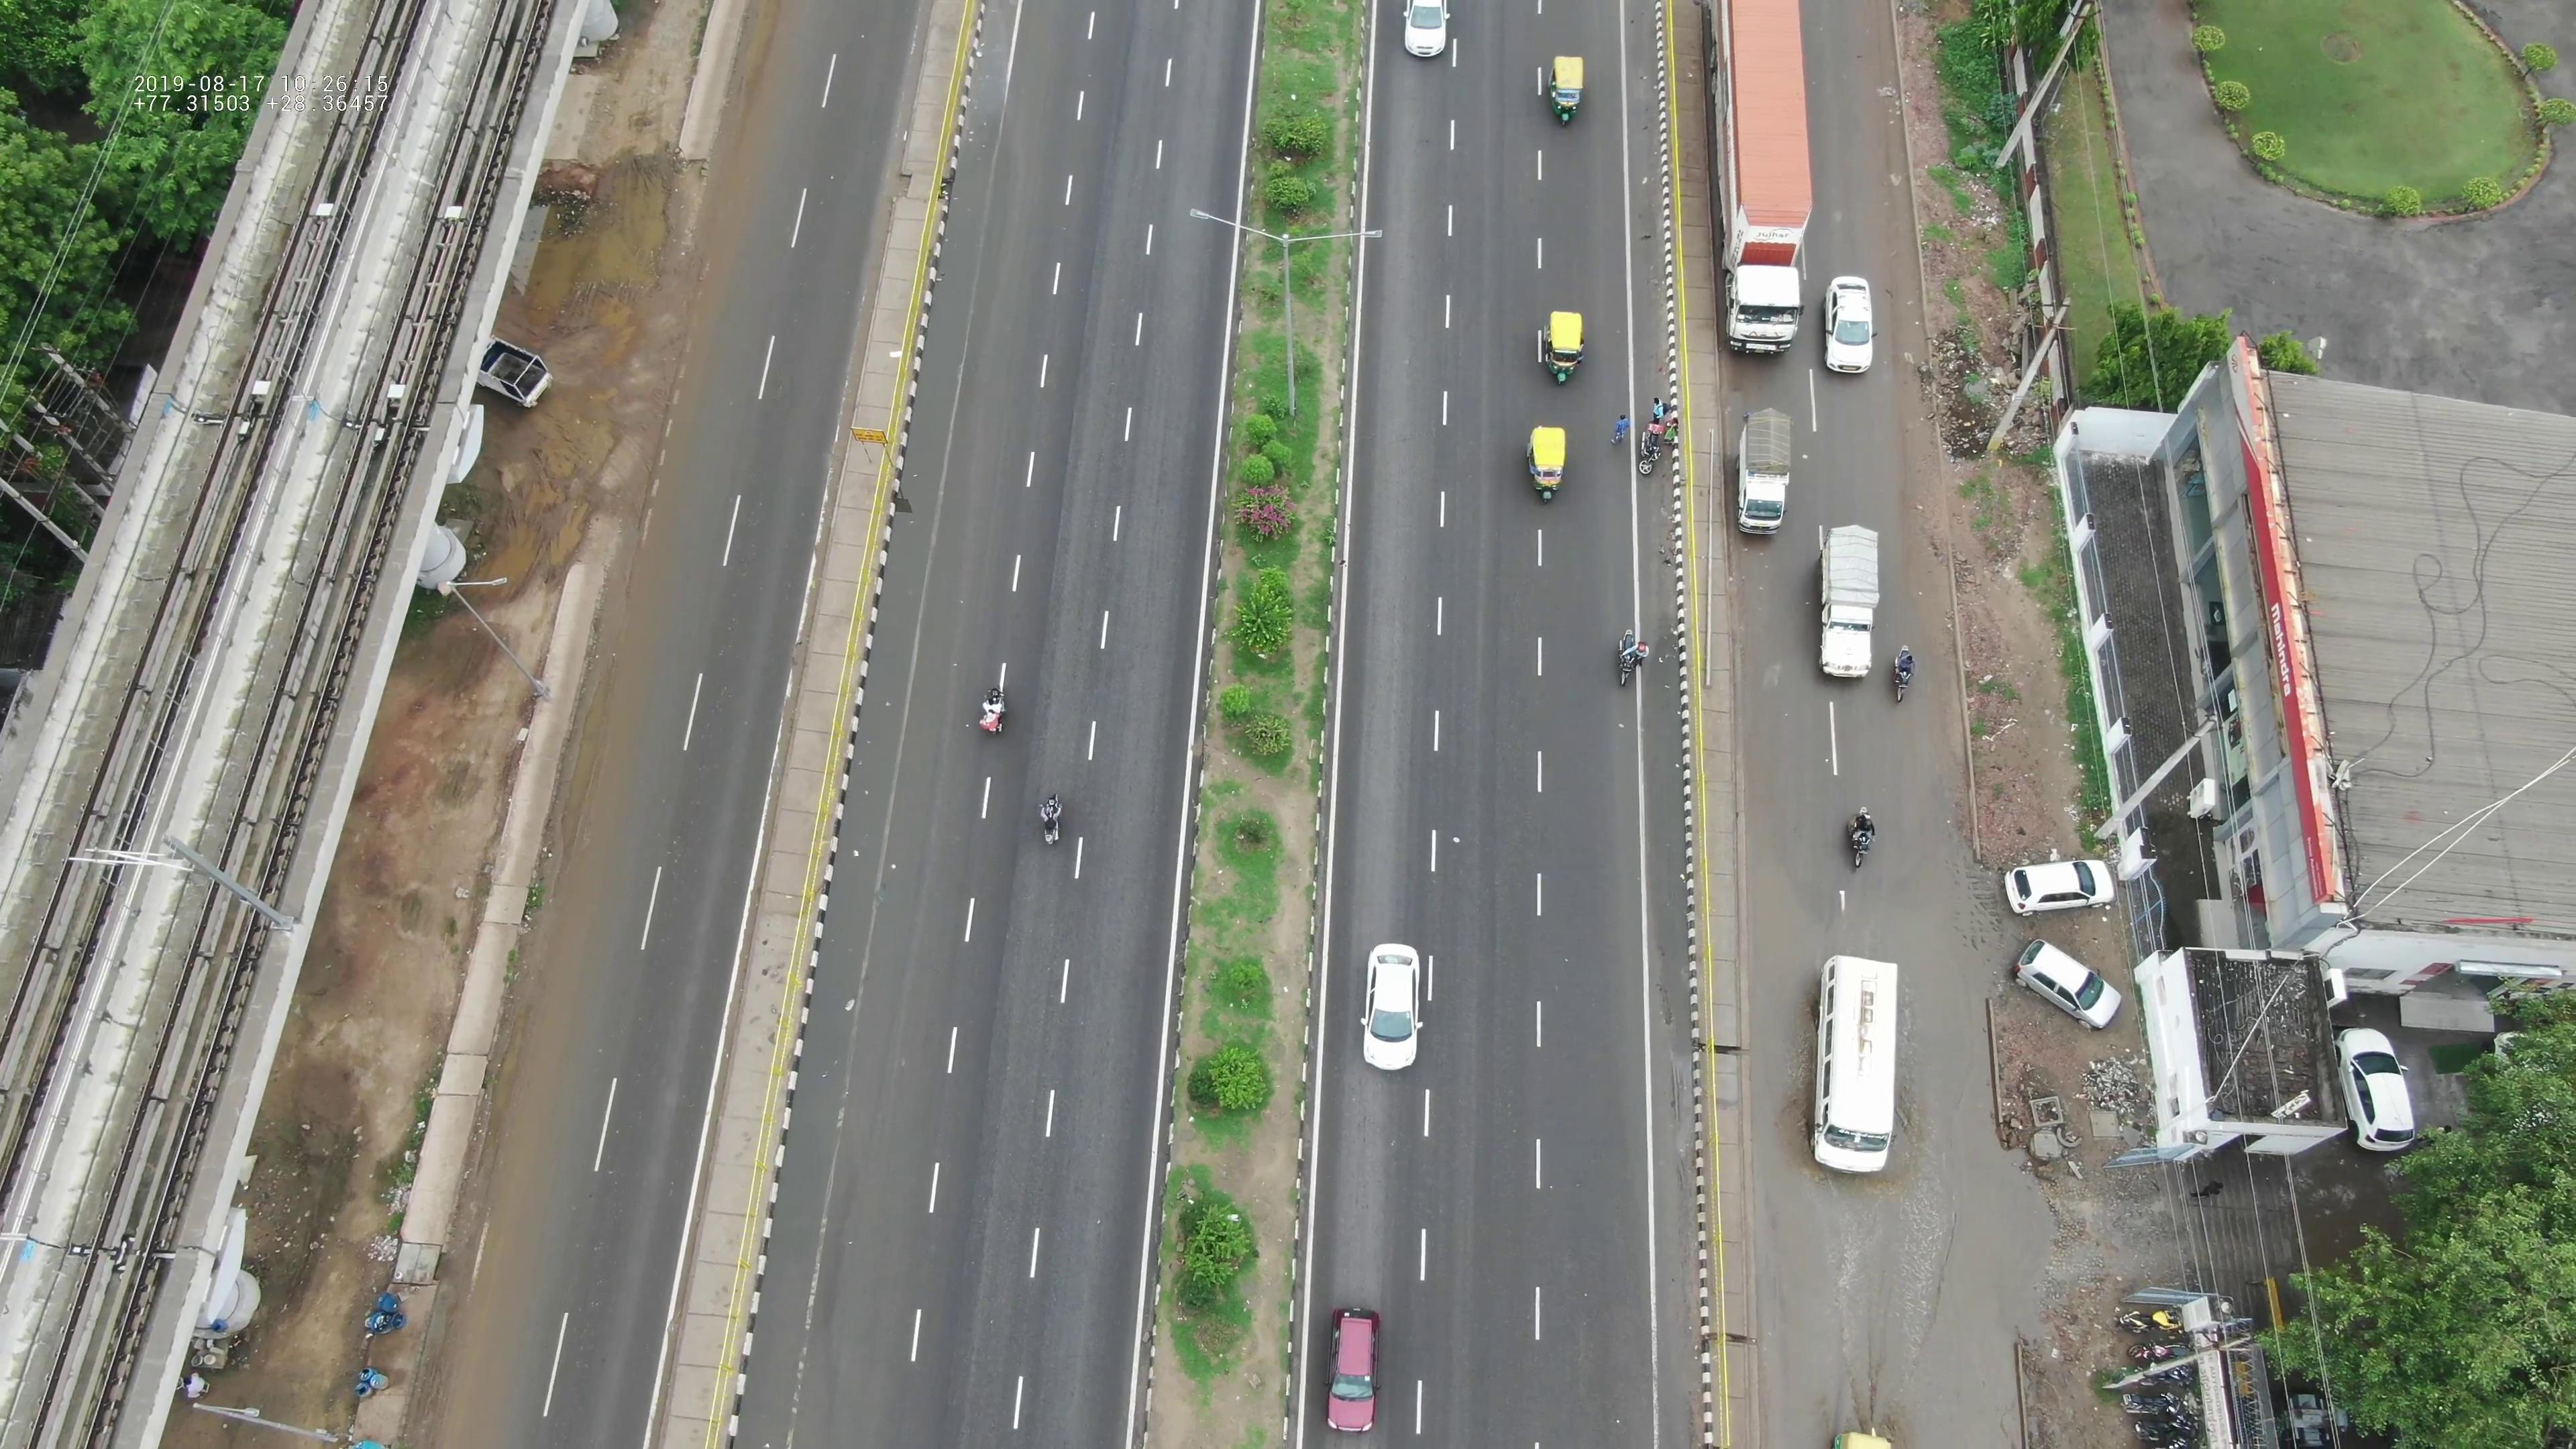Muddy_road: (557, 166, 717, 570), (418, 1196, 533, 1428), (474, 968, 586, 1169)
Waterlogging: (1752, 936, 2003, 1428), (550, 653, 625, 881)
